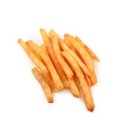frenchfries: (18, 24, 106, 112)
